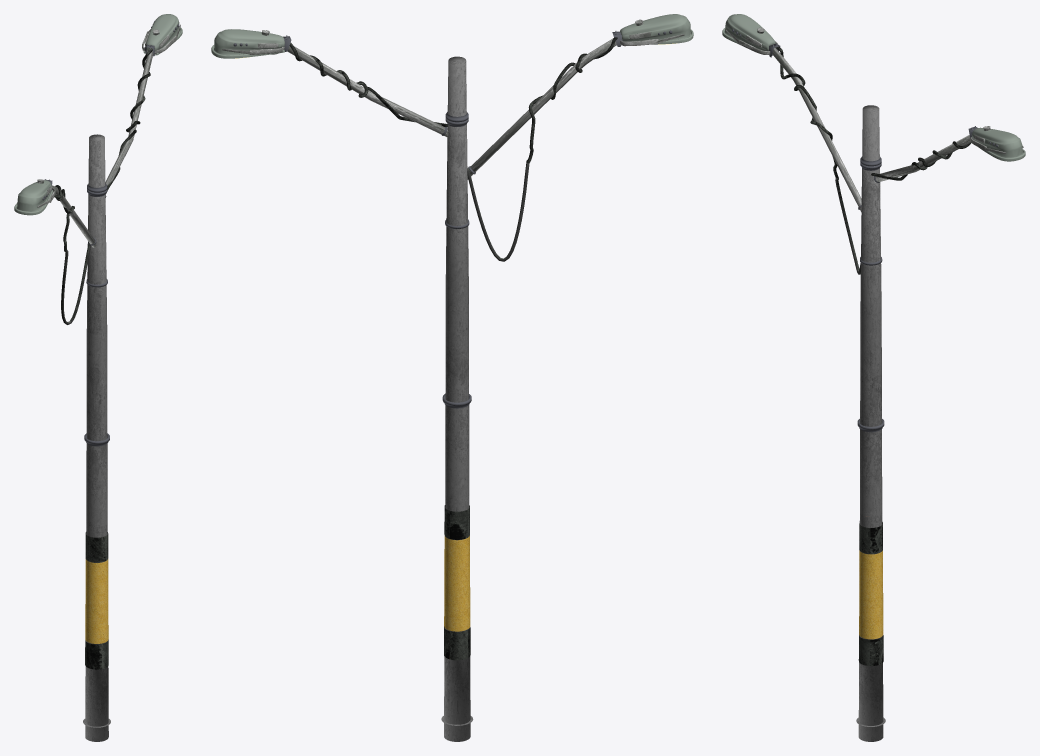
The model's file is medellin_street_lamp.glb.
3 views of the same model, side by side, from view 1: azimuth 30°, elevation 25°; view 2: azimuth 150°, elevation 25°; view 3: azimuth 270°, elevation 25° (orthographic). The views are drawn at different scales.
Parts seen in each view (by area): view 1: Object_2; view 2: Object_2; view 3: Object_2.
Boxes of the visible parts, x1,y1,x2,y2 form: Object_2: (14,14,182,741); Object_2: (211,14,693,741); Object_2: (722,14,1025,741).
Size of the model in its own units: 2.07 by 4.29 by 1.76.
Materials: 1 (1 with a texture image).
